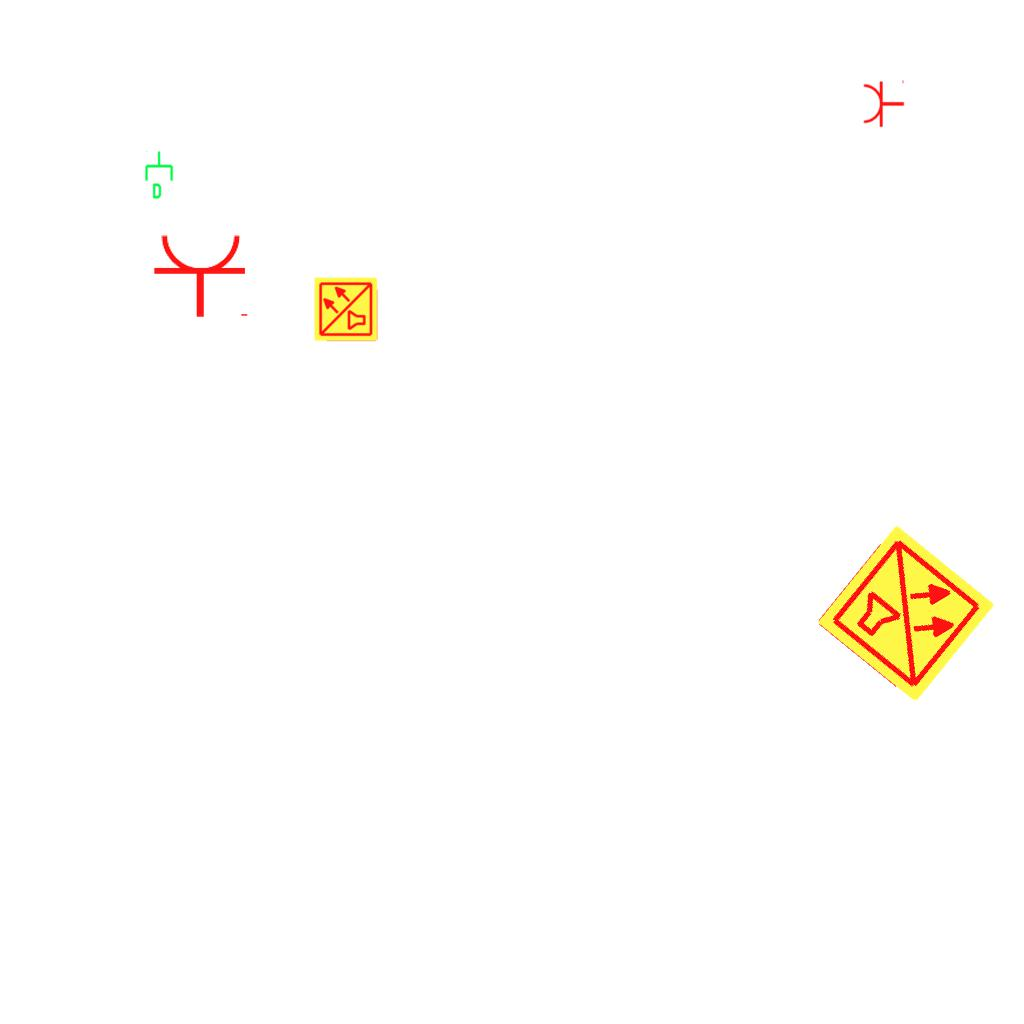Datenanschluss_einfach: (143, 150, 177, 200)
OKW_Multisensormelder_(Kombination_optischer_Rauch-Kahlenmonoxid_Waerme-Melder): (813, 521, 999, 707), (313, 276, 379, 342)
Schukosteckdose_einfach: (152, 232, 252, 319), (862, 78, 905, 128)
